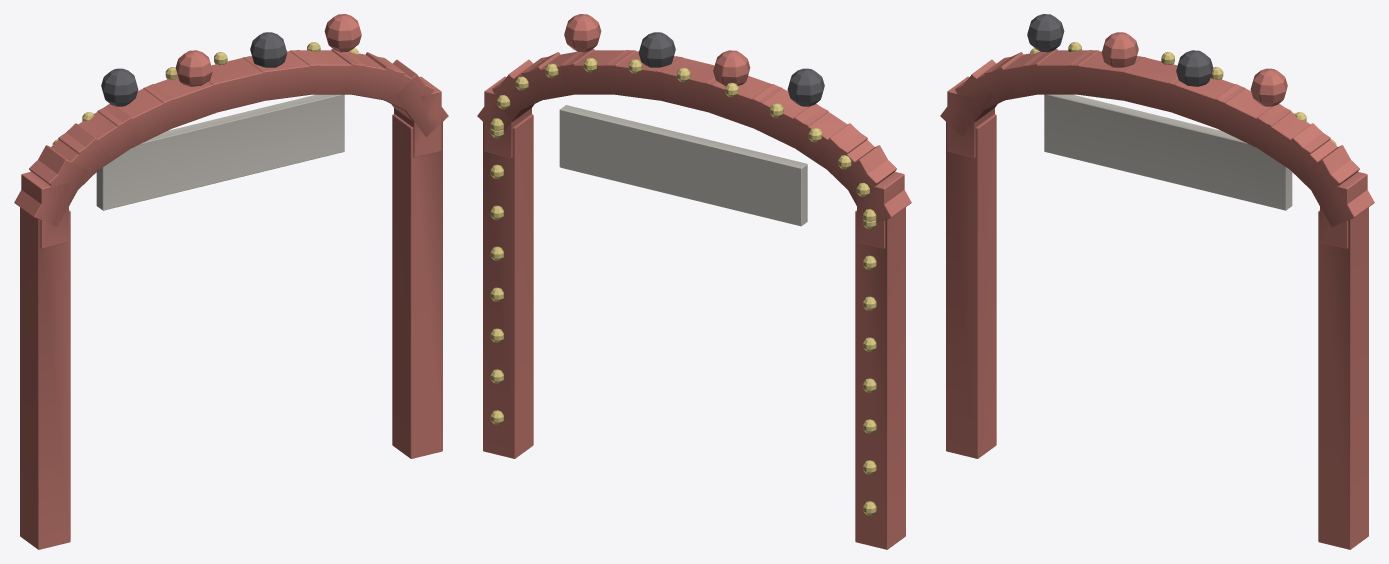
The model's file is games_marquee.glb.
The picture shows the model from 3 angles, left to right: view 1: azimuth 30°, elevation 25°; view 2: azimuth 150°, elevation 25°; view 3: azimuth 330°, elevation 25°; orthographic projection.
Bounding box in the file's own units: 4.45 × 4.63 × 0.4543.
